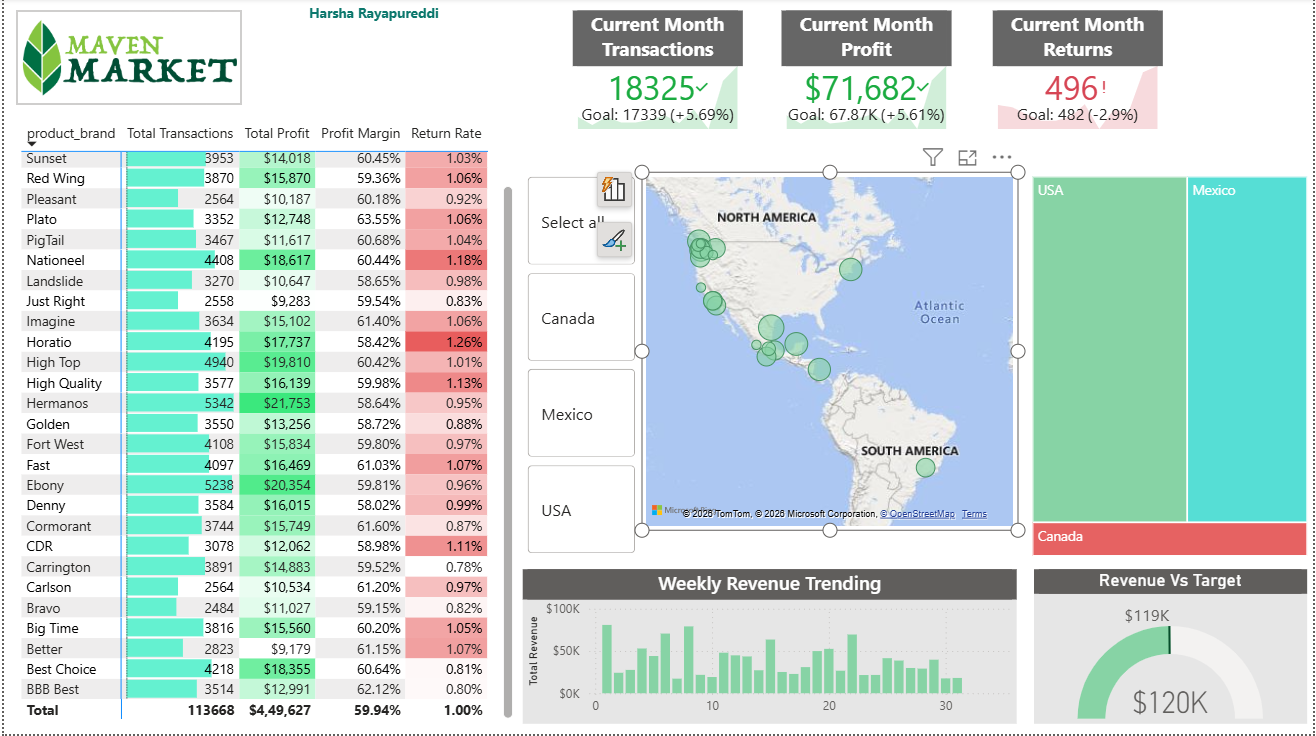

The page's visual inventory and layout, read from the dashboard file:
{"tool":"powerbi","page":{"name":"Topline Performance","canvas":[1280,720],"ordinal":0},"visuals":[{"type":"image","box":[12.2,12.2,220.1,91.7],"z":0},{"type":"pivotTable","fields":{"Rows":["Products.product_brand"],"Values":["Transaction_Data.Total Transactions","Transaction_Data.Total Profit","Transaction_Data.Profit Margin","Transaction_Data.Return Rate"]},"box":[12.2,116.2,490.4,594.3],"z":1000},{"type":"kpi","title":"Current Month Transactions","fields":{"Indicator":["Transaction_Data.Total Transactions"],"TrendLine":["Calendar.Start of Month"],"Goal":["Transaction_Data.Last Month Transactions"]},"box":[556.4,12.2,166.3,121.1],"z":2000},{"type":"kpi","title":"Current Month Profit","fields":{"TrendLine":["Calendar.Start of Month"],"Indicator":["Transaction_Data.Total Profit"],"Goal":["Transaction_Data.Last Month Profit"]},"box":[760.6,12.2,166.3,121.1],"z":3000},{"type":"kpi","title":"Current Month Returns","fields":{"TrendLine":["Calendar.Start of Month"],"Indicator":["Transaction_Data.Total Returns"],"Goal":["Transaction_Data.Last Month Returns"]},"box":[967.3,12.2,166.3,121.1],"z":4000},{"type":"map","fields":{"Category":["Stores.store_city"],"Size":["Transaction_Data.Total Transactions"]},"box":[623.6,170,368.1,351],"z":5000},{"type":"advancedSlicerVisual","fields":{"Values":["Stores.store_country"]},"box":[507.9,170.2,115.4,380.9],"z":6000},{"type":"treemap","fields":{"Values":["Transaction_Data.Total Transactions"],"Group":["Stores.store_country","Stores.store_state","Stores.store_city"]},"box":[1001.3,170.2,278.5,380.9],"z":7000},{"type":"clusteredColumnChart","title":"Weekly Revenue Trending","fields":{"Category":["Calendar.Start of Week.Variation.Date Hierarchy.Day"],"Y":["Transaction_Data.Total Revenue"]},"box":[507.9,558.3,483.3,151.5],"z":8000},{"type":"gauge","title":"Revenue Vs Target","fields":{"Y":["Transaction_Data.Total Revenue"],"TargetValue":["Transaction_Data.Revenue Target"]},"box":[1007,558.3,266.9,151.5],"z":9000},{"type":"textbox","box":[293.5,0,143.1,29.3],"z":10000}]}

Visuals, with their boxes in screenshot pixels (x1, y1, x2, y2), scaled from the page's 1280x720 canvas onto the 1316x736 screenshot:
image: l=13, t=12, r=239, b=106
pivotTable - Products.product_brand x Transaction_Data.Total Transactions: l=13, t=119, r=517, b=726
"Current Month Transactions" kpi: l=572, t=12, r=743, b=136
"Current Month Profit" kpi: l=782, t=12, r=953, b=136
"Current Month Returns" kpi: l=995, t=12, r=1165, b=136
map - Stores.store_city x Transaction_Data.Total Transactions: l=641, t=174, r=1020, b=533
advancedSlicerVisual - Stores.store_country: l=522, t=174, r=641, b=563
treemap - Transaction_Data.Total Transactions x Stores.store_country: l=1029, t=174, r=1315, b=563
"Weekly Revenue Trending" clusteredColumnChart: l=522, t=571, r=1019, b=726
"Revenue Vs Target" gauge: l=1035, t=571, r=1310, b=726
textbox: l=302, t=0, r=449, b=30
